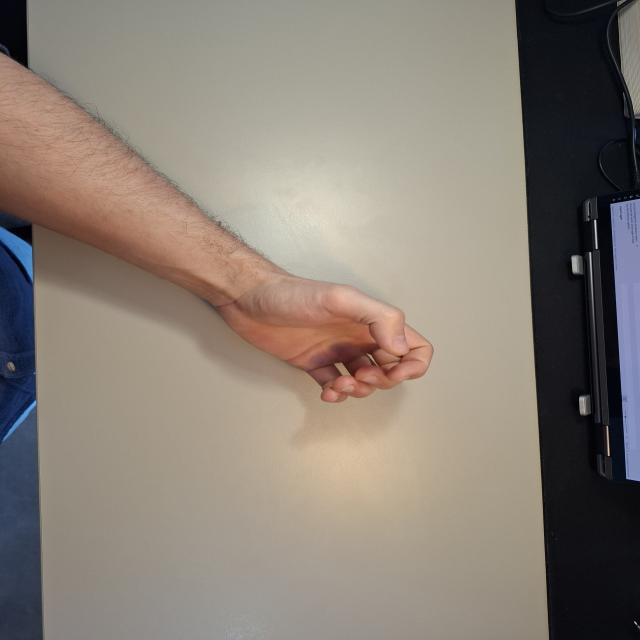glove_off: (208, 265, 436, 404)
